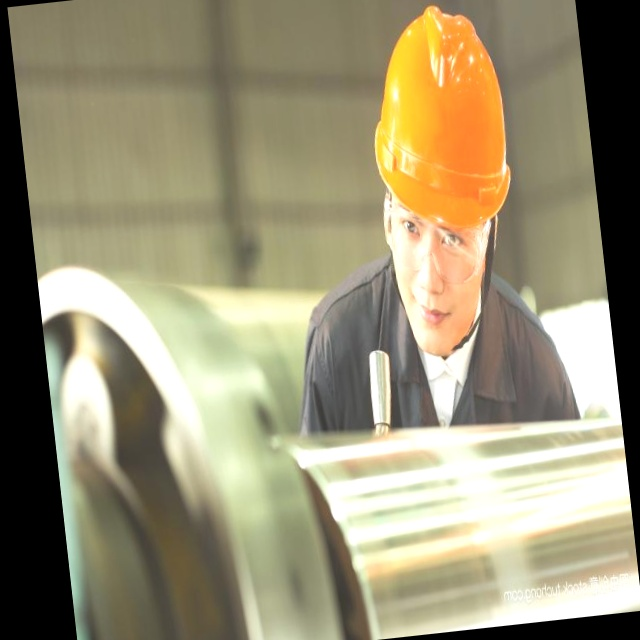Con_Casco: (360, 2, 528, 358)
